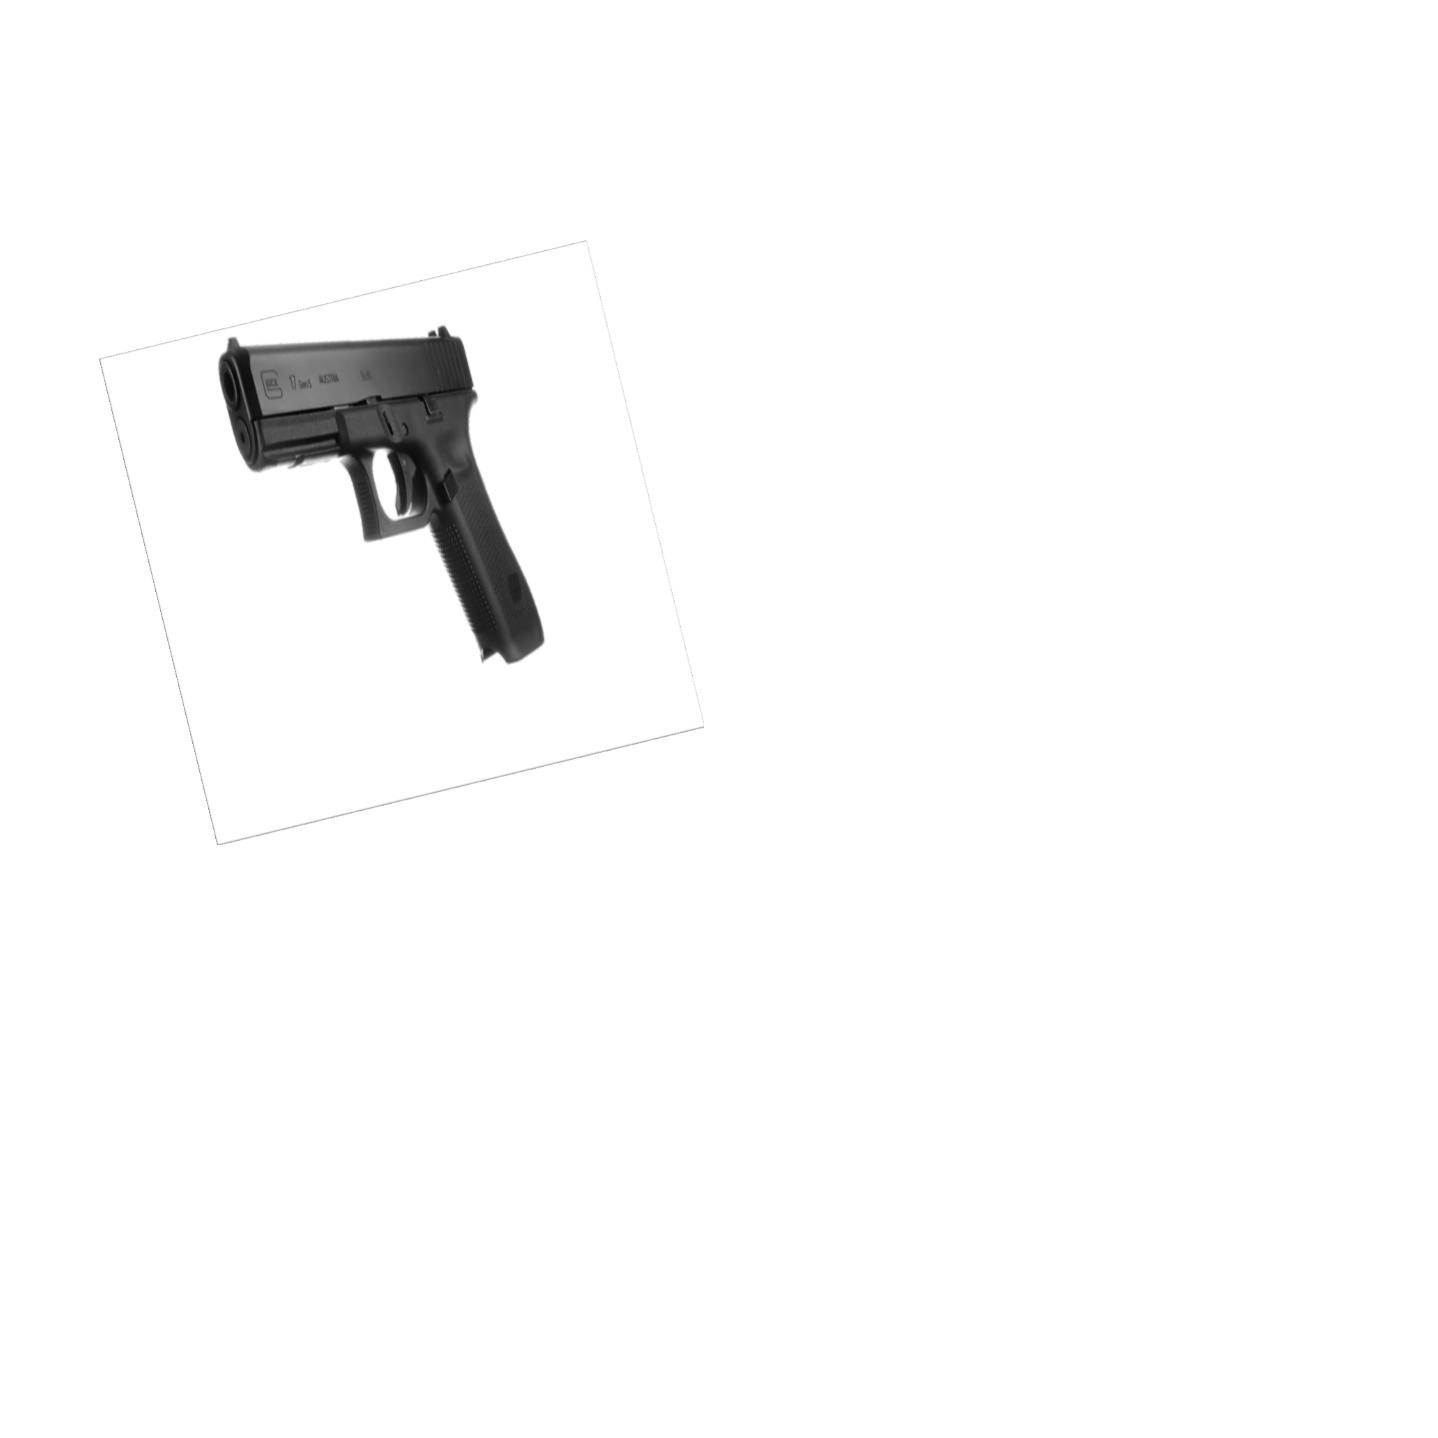gun: (215, 323, 558, 672)
